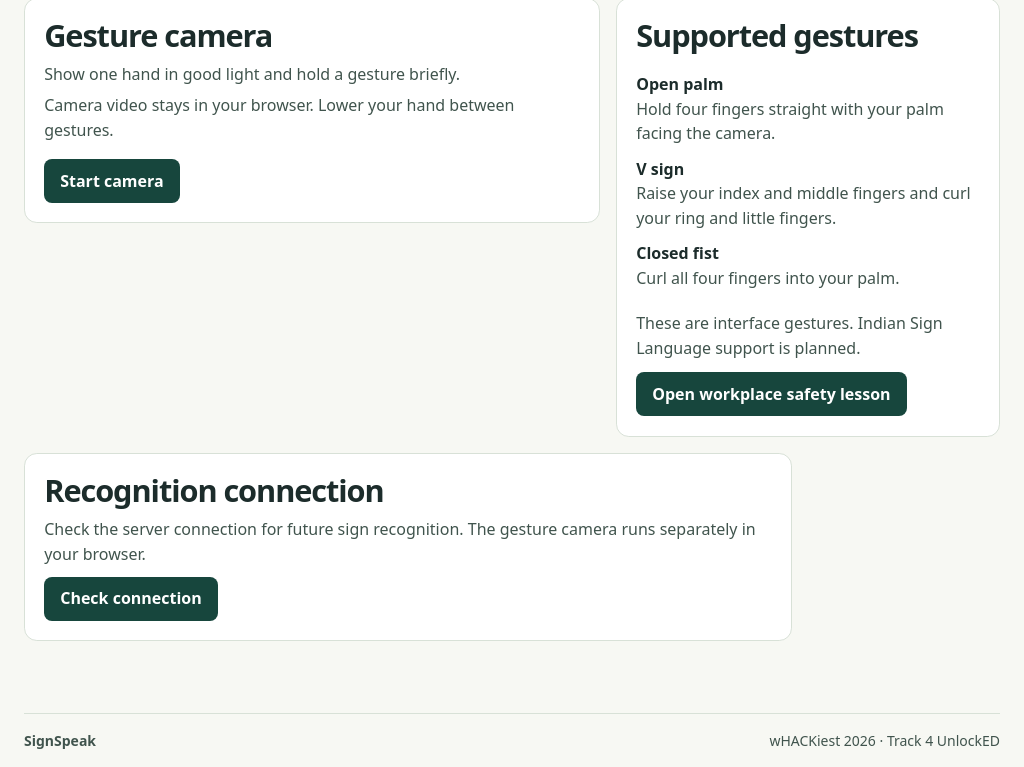
Test: announces a failed WebSocket connection
The image size is (1024, 767).
(page scrolled)
Click the button "Check connection".
click(131, 599)  # box [44, 577, 218, 621]
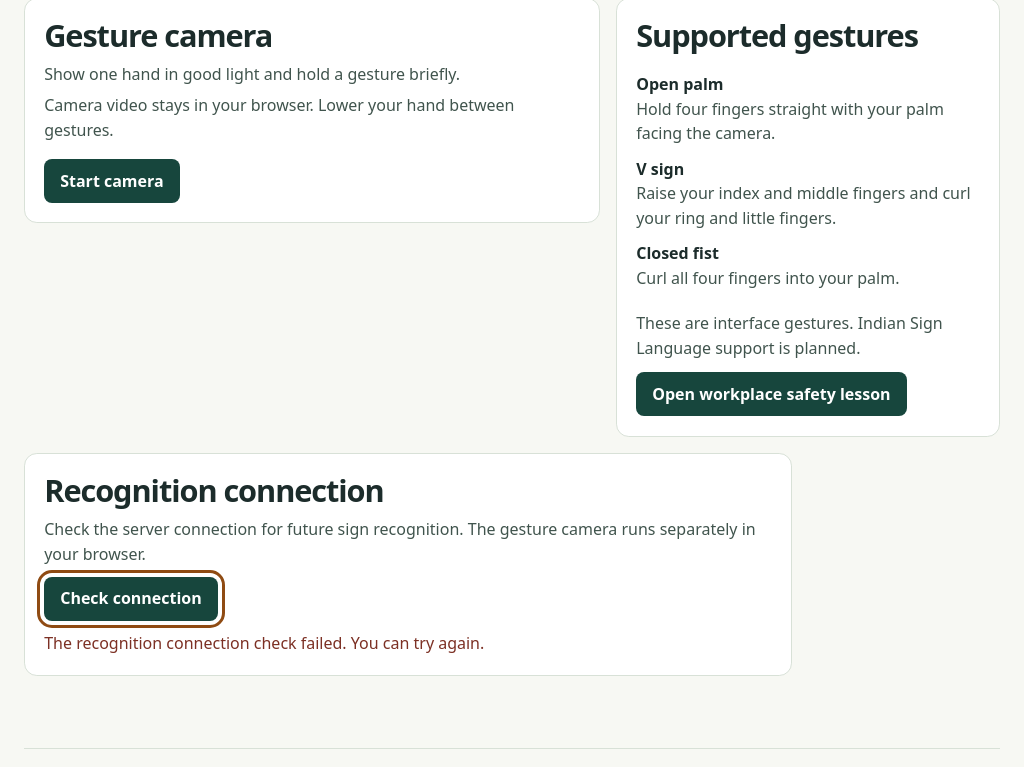
Result: the message shows "connection check failed" at [44, 632, 484, 654]
